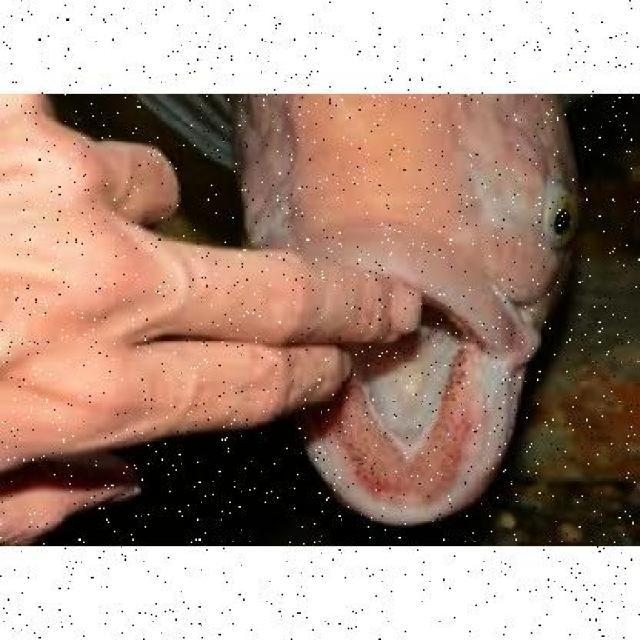gurame: (218, 91, 584, 527)
